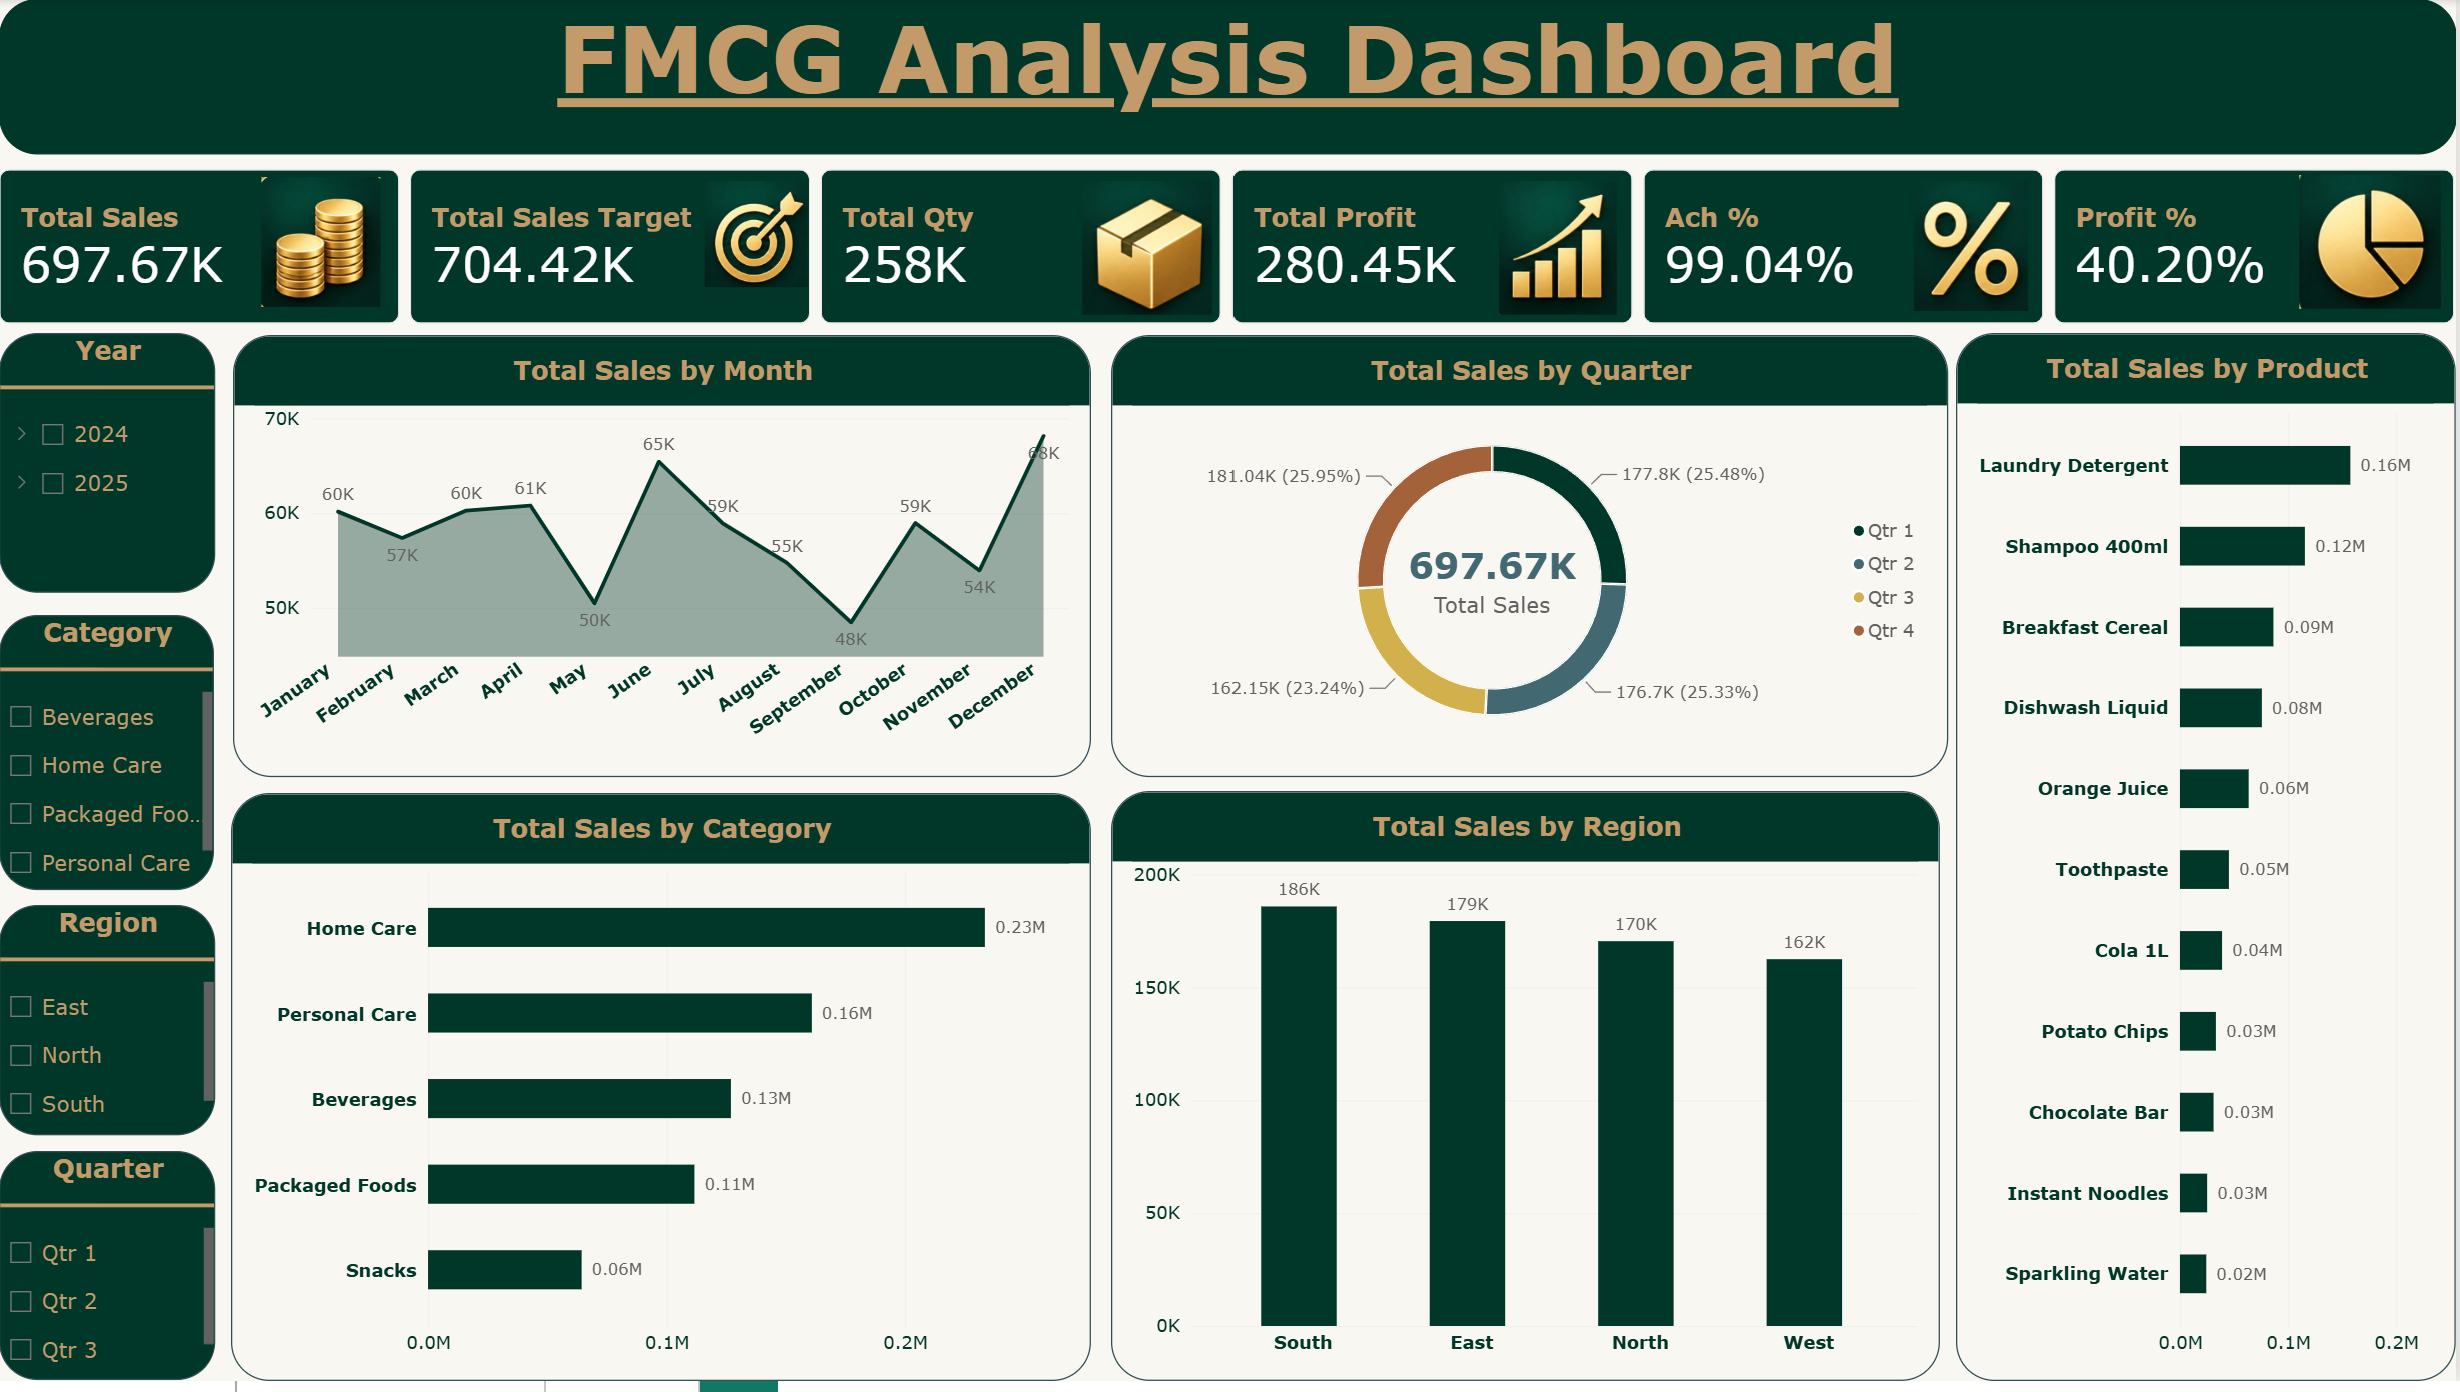

The dashboard page shown, as its layout file describes it:
{"tool":"powerbi","page":{"name":"Executive Dashboard","canvas":[1920,1080],"ordinal":0},"visuals":[{"type":"cardVisual","fields":{"Data":["FMCG Sales.Total Sales","FMCG Sales.Total Sales Target","FMCG Sales.Total Qty","FMCG Sales.Total Profit","FMCG Sales.Ach %","FMCG Sales.Profit %"]},"box":[0,132.9,1920,121],"z":0},{"type":"textbox","box":[0,0,1920,121.5],"z":1000},{"type":"areaChart","fields":{"Category":["FMCG Sales.OrderDate.Variation.Date Hierarchy.Month"],"Y":["FMCG Sales.Total Sales"]},"box":[182.9,262.6,670.5,345.4],"z":2000},{"type":"donutChart","fields":{"Category":["FMCG Sales.OrderDate.Variation.Date Hierarchy.Quarter"],"Y":["FMCG Sales.Total Sales"]},"box":[869,262.6,653.3,345.4],"z":3000},{"type":"clusteredBarChart","fields":{"Category":["FMCG Sales.Product"],"Y":["FMCG Sales.Total Sales"]},"box":[1528.6,261,390.7,819],"z":4000},{"type":"clusteredBarChart","fields":{"Category":["FMCG Sales.Category"],"Y":["FMCG Sales.Total Sales"]},"box":[181.3,620.5,672.1,459.5],"z":5000},{"type":"clusteredColumnChart","fields":{"Category":["FMCG Sales.Region"],"Y":["FMCG Sales.Total Sales"]},"box":[869,618.9,647.1,461.1],"z":6000},{"type":"slicer","title":"Year","fields":{"Values":["FMCG Sales.OrderDate.Variation.Date Hierarchy.Year","FMCG Sales.OrderDate.Variation.Date Hierarchy.Month"]},"box":[0,261,168.8,203.2],"z":7000},{"type":"slicer","title":"Category","fields":{"Values":["FMCG Sales.Category"]},"box":[0,481.4,168,215],"z":8000},{"type":"slicer","title":"Region","fields":{"Values":["FMCG Sales.Region"]},"box":[0,708,168.8,180],"z":9000},{"type":"slicer","title":"Quarter","fields":{"Values":["FMCG Sales.OrderDate.Variation.Date Hierarchy.Quarter"]},"box":[0,900.3,169,179],"z":10000},{"type":"image","box":[101.6,139.1,300.1,101.6],"z":11000},{"type":"image","box":[457.9,142.2,267.3,82.8],"z":11001},{"type":"image","box":[745.5,142.2,303.2,104.7],"z":11002},{"type":"image","box":[1067.5,142.2,300.1,104.7],"z":11003},{"type":"image","box":[1378.5,142.2,323.5,101.6],"z":11004},{"type":"image","box":[1784.9,137.5,134.4,104.7],"z":11005}]}

Visuals, with their boxes in screenshot pixels (x1, y1, x2, y2), scaled from the page's 1920x1080 canvas onto the 2460x1392 screenshot:
cardVisual - FMCG Sales.Total Sales x FMCG Sales.Total Sales Target: 0/171/2459/327
textbox: 0/0/2459/157
areaChart - FMCG Sales.OrderDate.Variation.Date Hierarchy.Month x FMCG Sales.Total Sales: 234/338/1093/784
donutChart - FMCG Sales.OrderDate.Variation.Date Hierarchy.Quarter x FMCG Sales.Total Sales: 1113/338/1950/784
clusteredBarChart - FMCG Sales.Product x FMCG Sales.Total Sales: 1959/336/2459/1391
clusteredBarChart - FMCG Sales.Category x FMCG Sales.Total Sales: 232/800/1093/1391
clusteredColumnChart - FMCG Sales.Region x FMCG Sales.Total Sales: 1113/798/1943/1391
"Year" slicer: 0/336/216/598
"Category" slicer: 0/620/215/898
"Region" slicer: 0/913/216/1145
"Quarter" slicer: 0/1160/217/1391
image: 130/179/515/310
image: 587/183/929/290
image: 955/183/1344/318
image: 1368/183/1752/318
image: 1766/183/2181/314
image: 2287/177/2459/312
